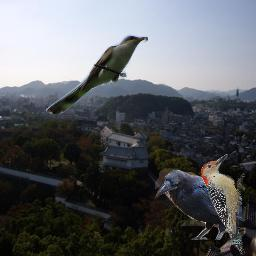Crow: (155, 168, 242, 240)
Cuckoo: (46, 34, 148, 114)
Woodpecker: (201, 153, 245, 255)
